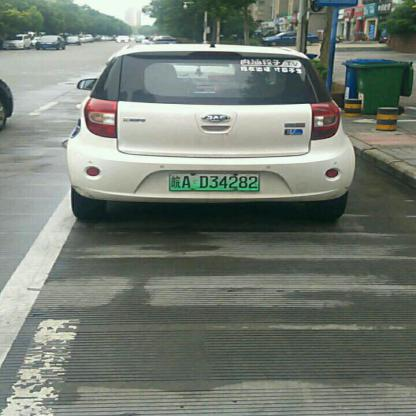lp: (169, 172, 260, 190)
